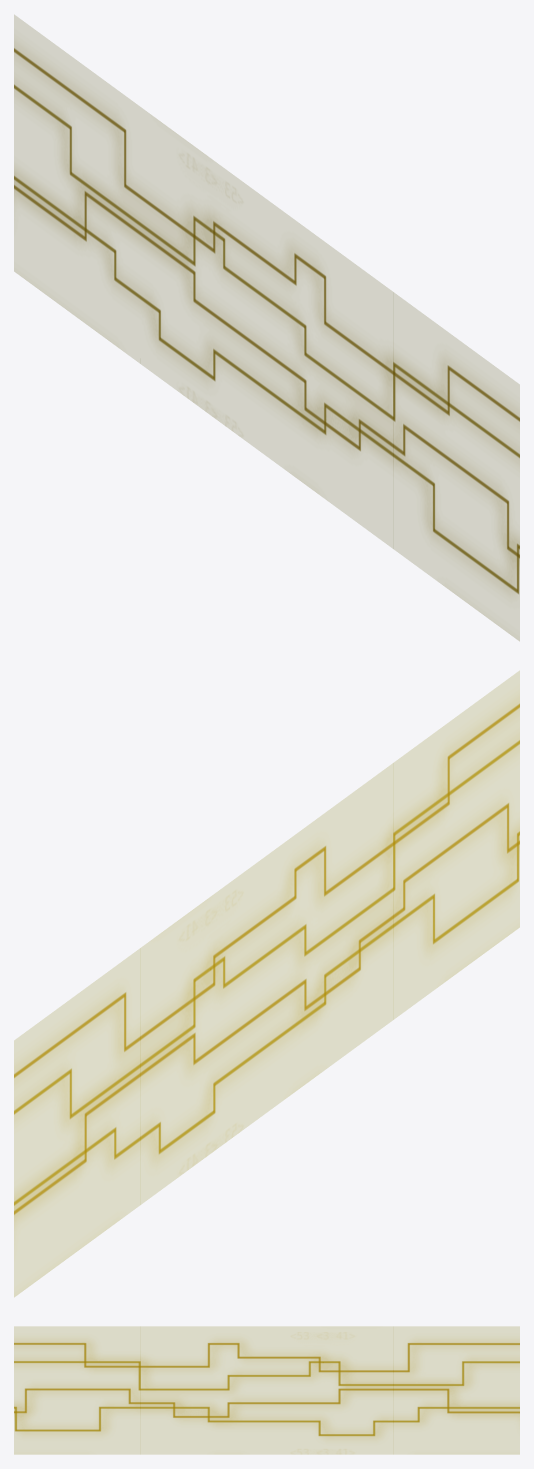
Rendered from arrow2.glb.
The picture shows the model from 3 angles, top to bottom: view 1: azimuth 30°, elevation 25°; view 2: azimuth 150°, elevation 25°; view 3: azimuth 270°, elevation 25°; orthographic projection. The views are drawn at different scales.
Visible parts, largest first — view 1: zipper-effect.png__; view 2: zipper-effect.png__; view 3: zipper-effect.png__.
Part boxes in pixels (left/top/right/bottom): zipper-effect.png__: left=14, top=15, right=519, bottom=640; zipper-effect.png__: left=14, top=671, right=519, bottom=1296; zipper-effect.png__: left=14, top=1326, right=519, bottom=1454.
Size of the model in its own units: 1.79e-07 by 4.49 by 16.
Materials: 1 (1 with a texture image).
